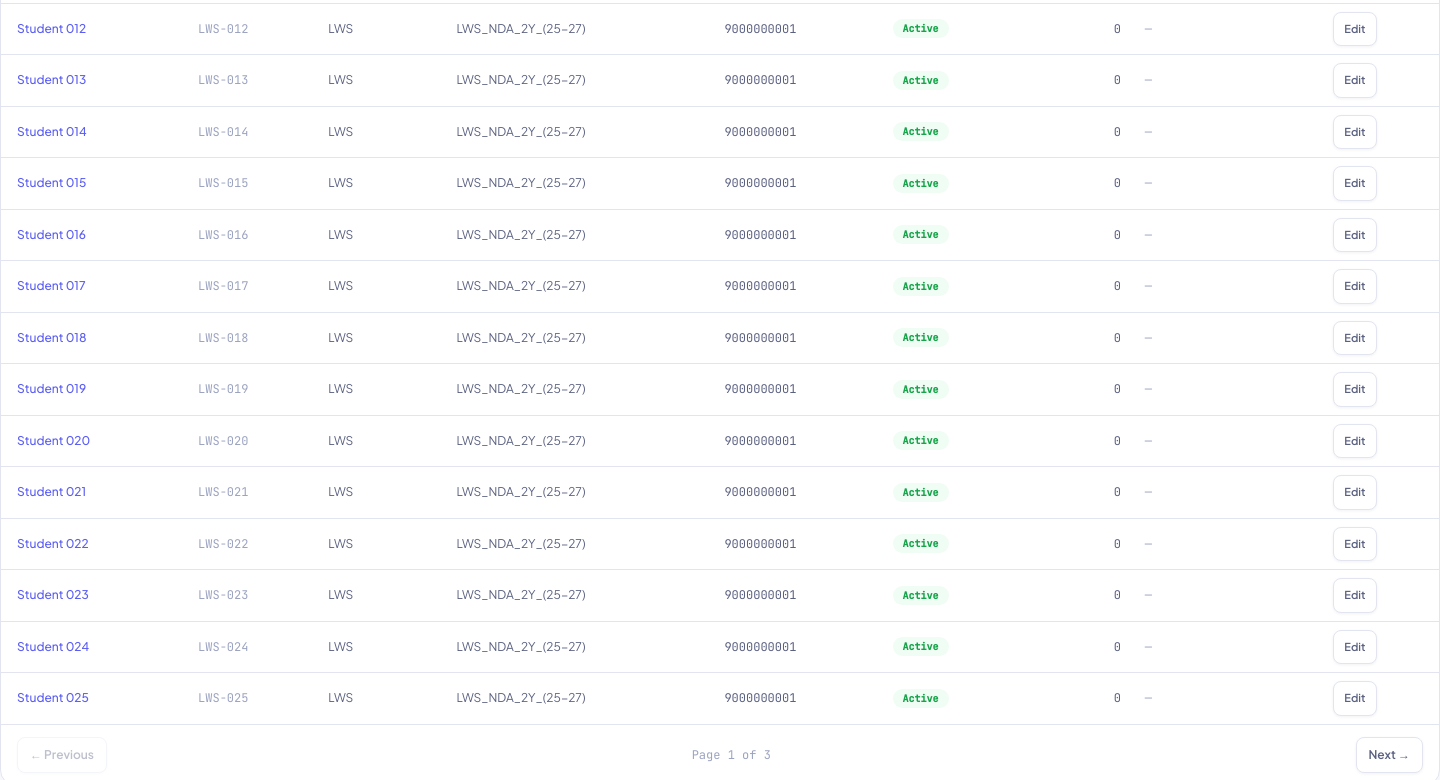
StudentsTable — pagination › page resets to 1 when filter changes
(page scrolled)
Step 1. Click the button "Next →" → point(1389, 754), box x1=1356 y1=736 x2=1423 y2=772
(page scrolled)
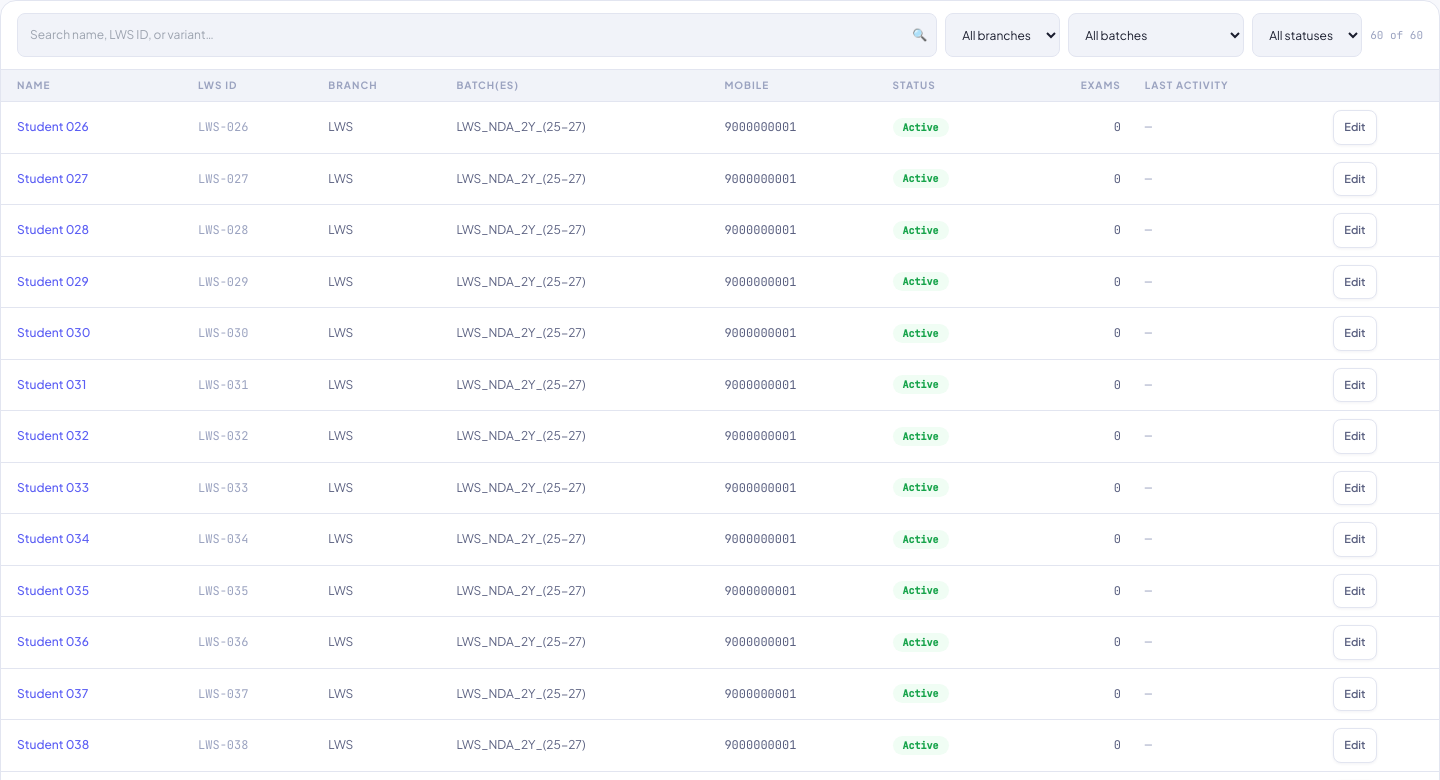
Step 2. Type "Filtered Student" into the search field with placeholder "Search name, LWS ID, or variant…" → point(477, 35), box x1=17 y1=13 x2=937 y2=57
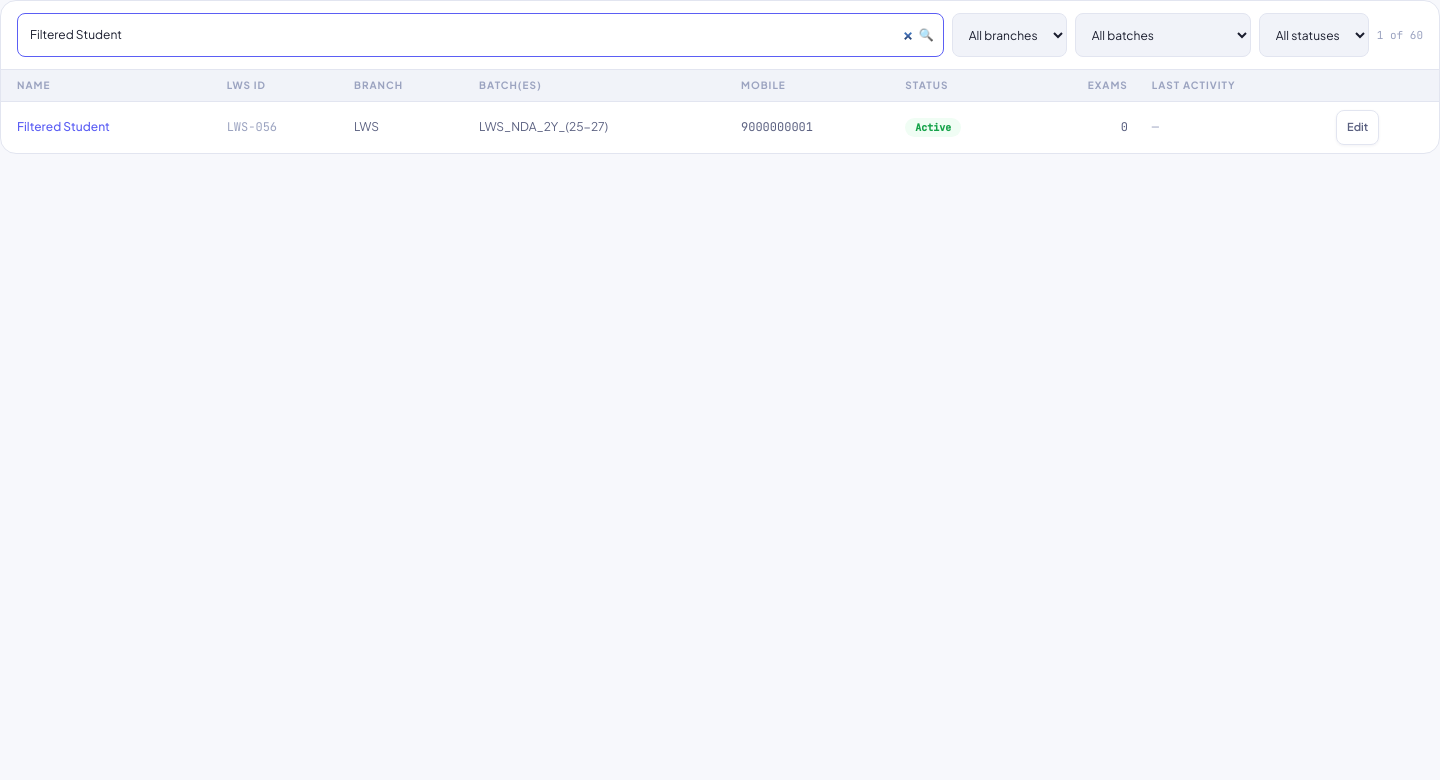
Check: the button "Filtered Student" is shown, box x1=17 y1=118 x2=110 y2=136
